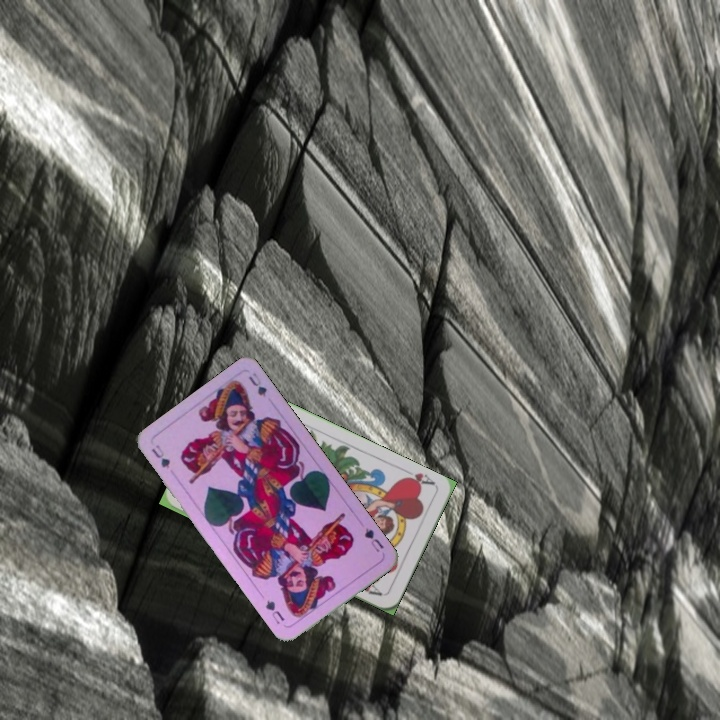GU: (360, 524, 386, 555), (147, 440, 173, 471)
HA: (398, 465, 438, 490)
